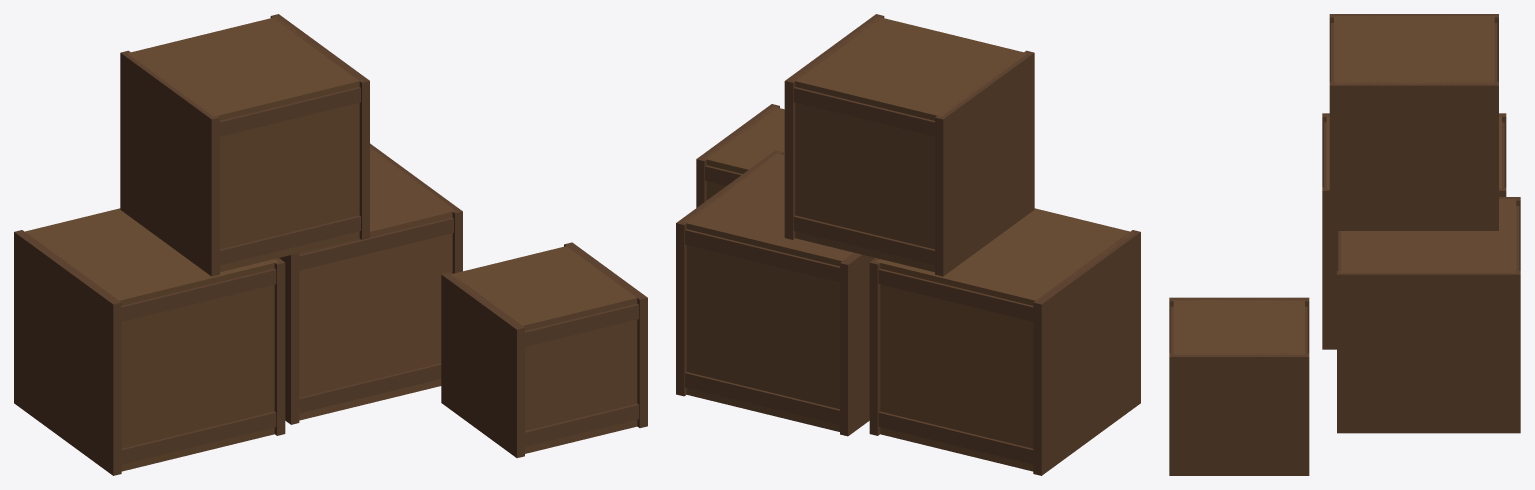
The model's file is crate_stack.glb.
The picture shows the model from 3 angles, left to right: view 1: azimuth 30°, elevation 25°; view 2: azimuth 150°, elevation 25°; view 3: azimuth 270°, elevation 25°; orthographic projection. The views are drawn at different scales.
Parts seen in each view (by area): view 1: crate_stack; view 2: crate_stack; view 3: crate_stack.
Boxes of the visible parts, x1,y1,x2,y2 form: crate_stack: (14,14,647,475); crate_stack: (676,14,1140,475); crate_stack: (1169,14,1520,475).
Bounding box in the file's own units: 1.65 × 1.15 × 1.21.
